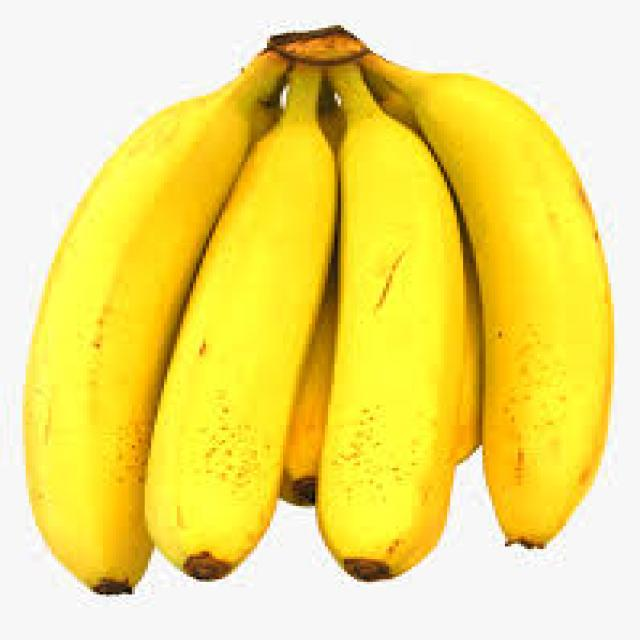banana: (19, 23, 614, 594)
